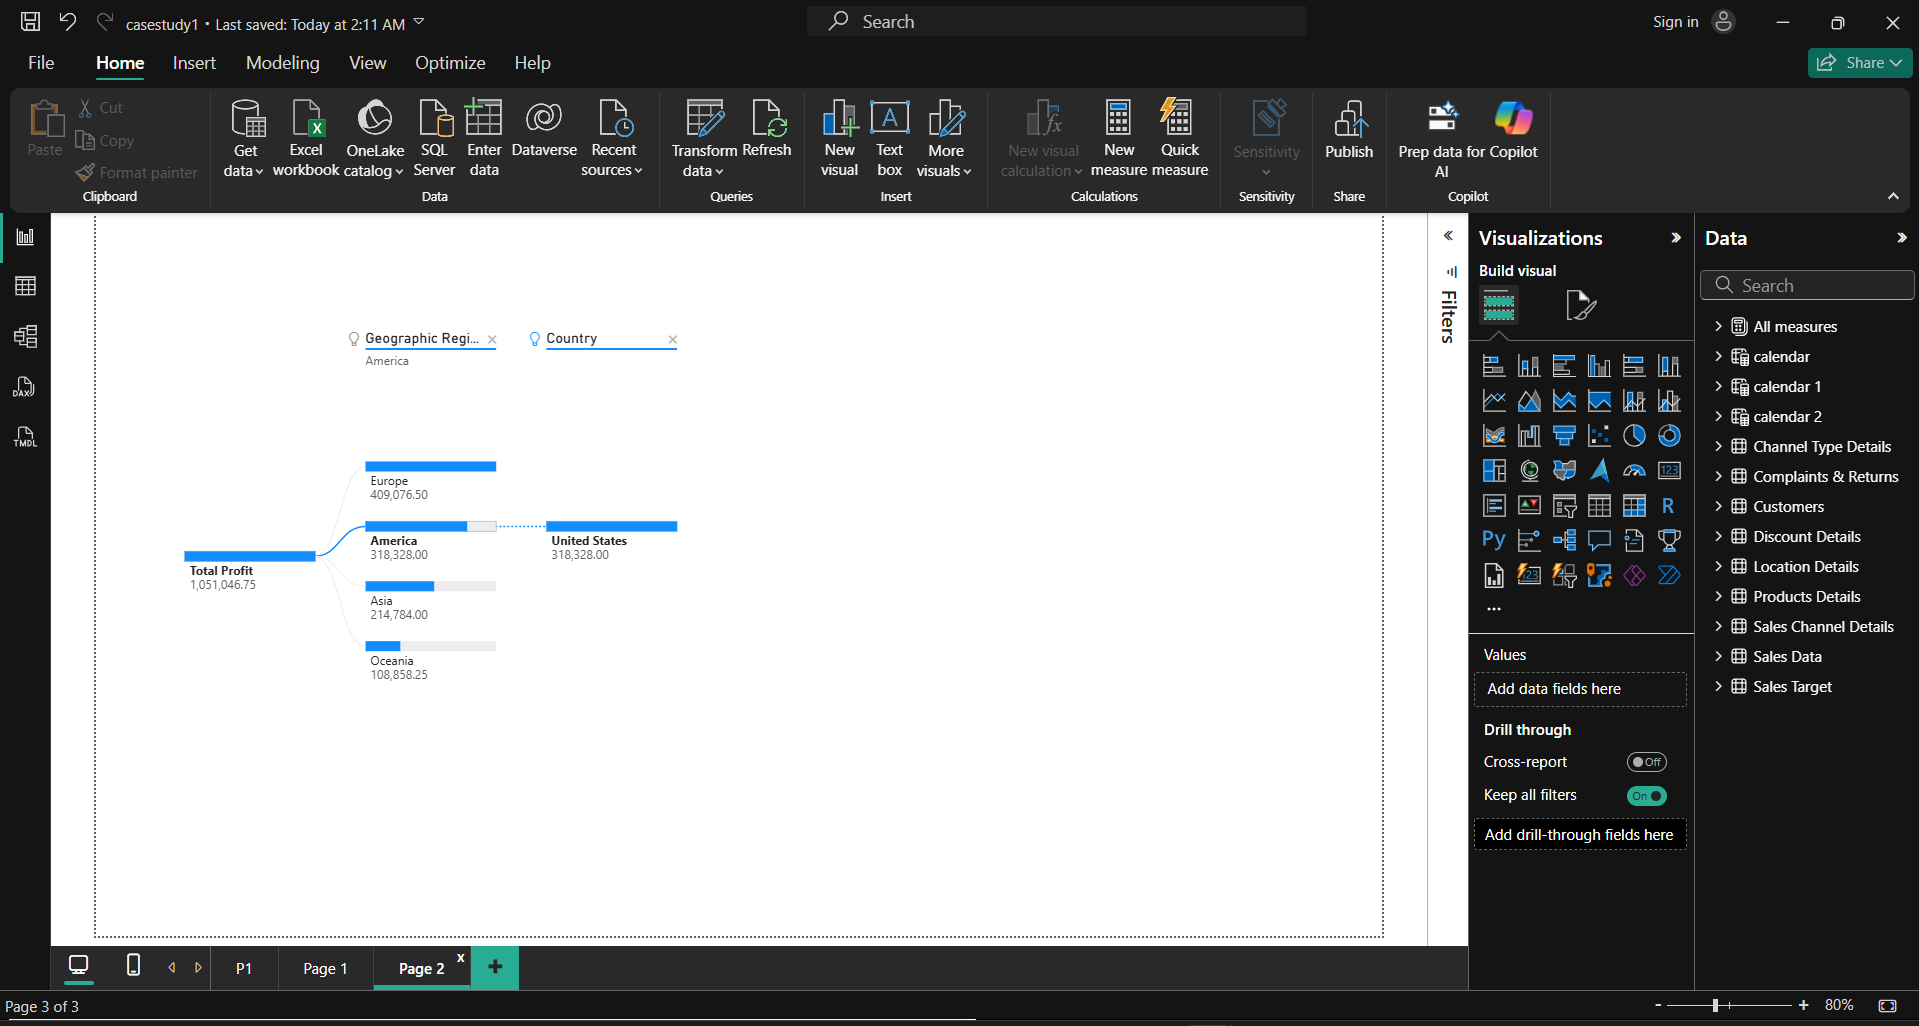

The page's visual inventory and layout, read from the dashboard file:
{"tool":"powerbi","page":{"name":"Page 2","canvas":[1280,720],"ordinal":2},"visuals":[{"type":"decompositionTreeVisual","fields":{"Analyze":["All measures.Total Profit"],"ExplainBy":["Location Details.Geographic Region","Location Details.Country"]},"box":[58.8,100.1,631,462.5],"z":0}]}

Visuals, with their boxes on the page's 1280x720 design canvas (x1, y1, x2, y2). These are canvas units, not pixel positions in the 1919x1026 screenshot, which may show the page scaled, cropped or inside an application window:
decompositionTreeVisual - All measures.Total Profit x Location Details.Geographic Region: <bbox>59, 100, 690, 563</bbox>
